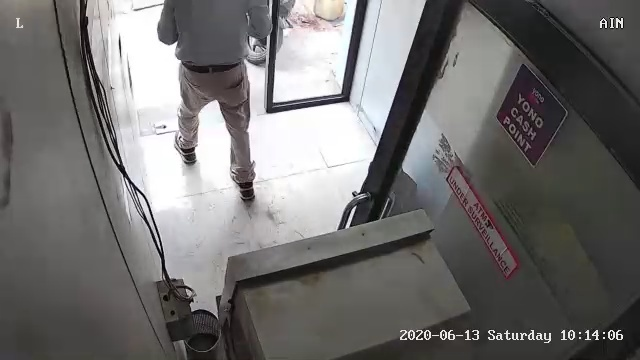open: (110, 3, 371, 195)
